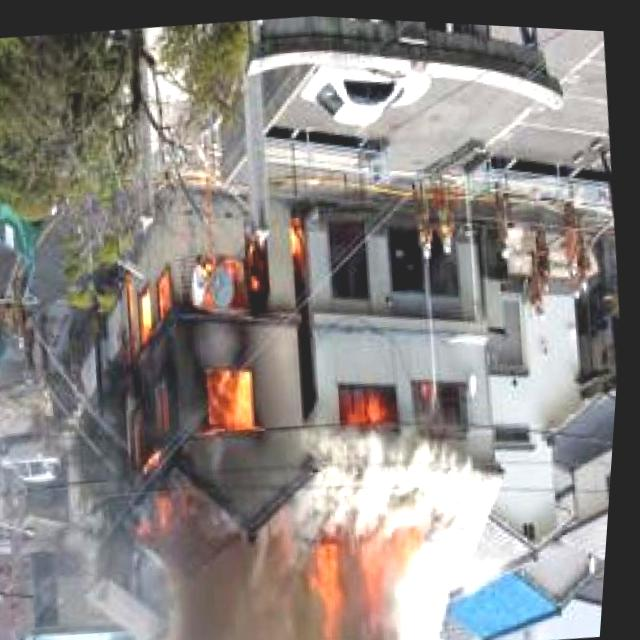helmet: (86, 188, 335, 485), (340, 370, 403, 428)
no_helmet: (163, 410, 524, 640)
